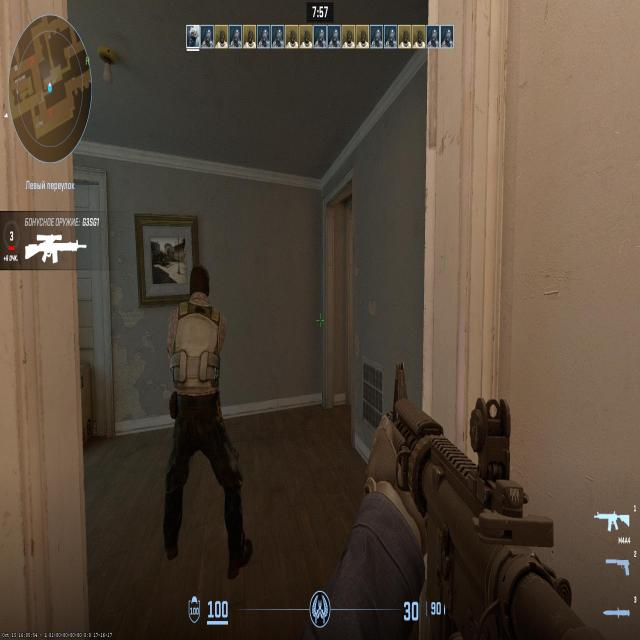T: (180, 266, 235, 520)
T_heat: (193, 273, 206, 310)
